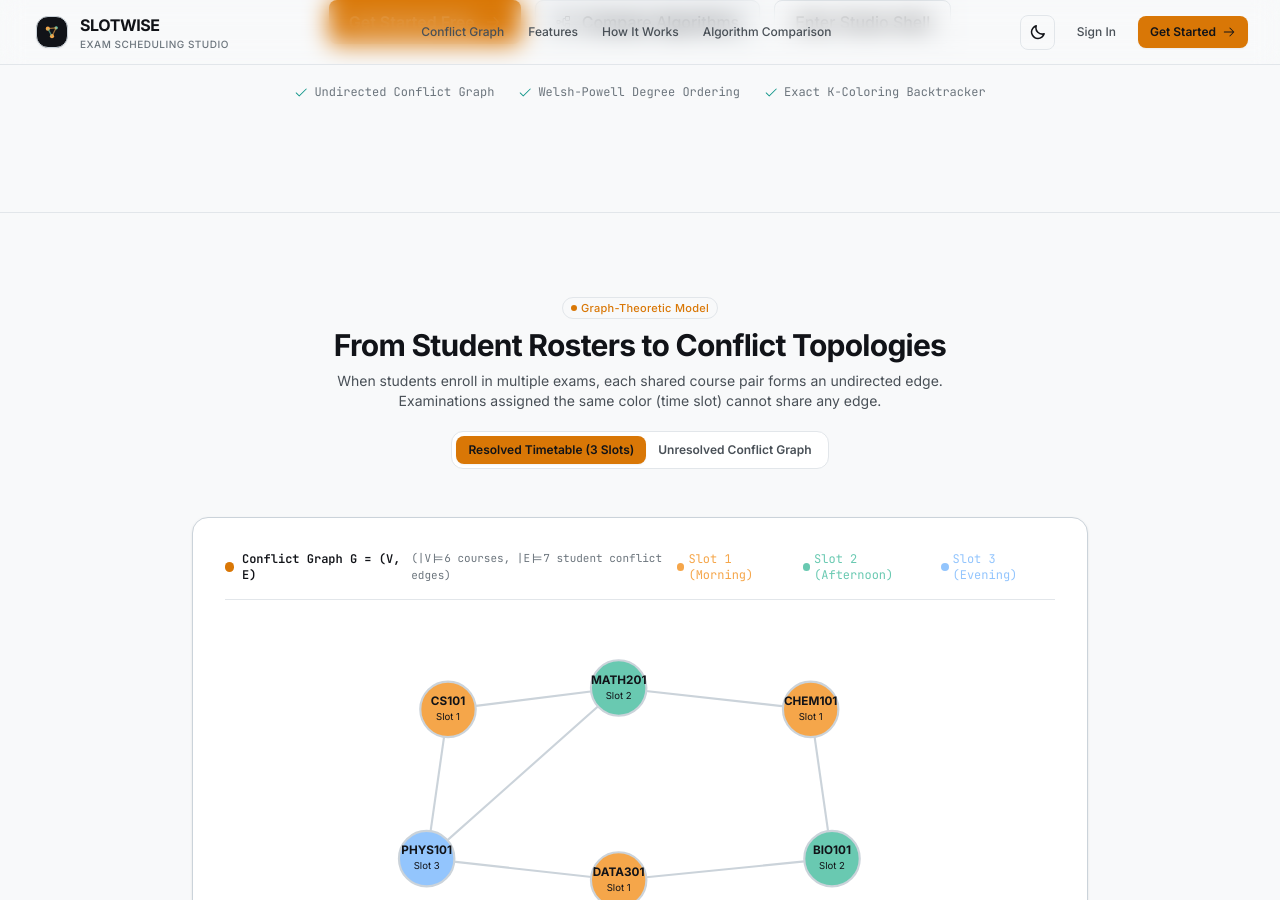
Test: Public Landing Page › renders conflict-graph model section and toggles visualization state
(page scrolled)
Expected: the heading "From Student Rosters to Conflict Topologies" is shown, [304,327,976,363]
Expected: the text "Slot 1 (Morning)" is shown, [677,551,753,583]
Toggle to Unresolved Conflict Graph
Click the button "Unresolved Conflict Graph". click: coordinates (735, 450)
box: [646,436,824,464]
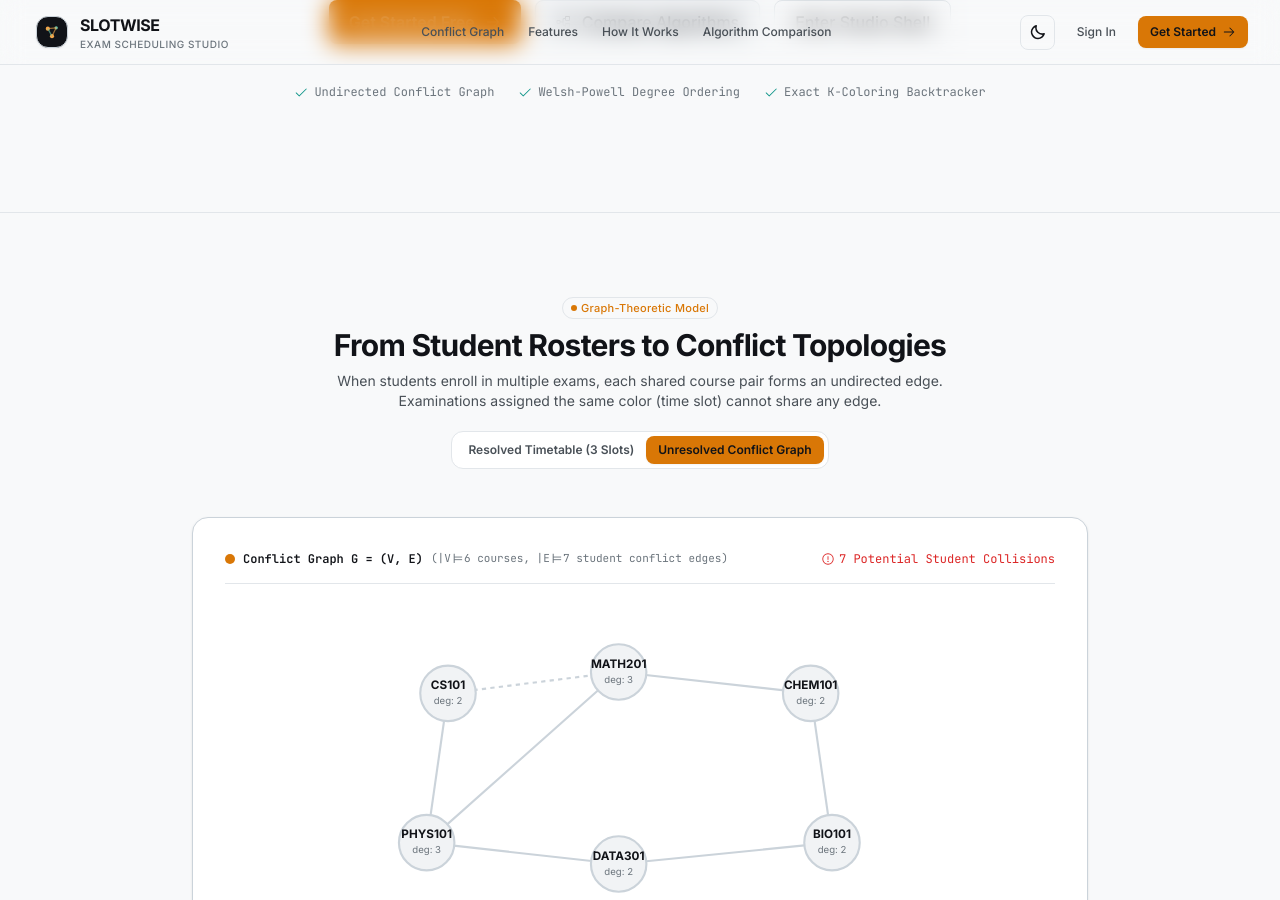
Expected: the text "7 Potential Student Collisions" is shown, [821,550,1055,566]
